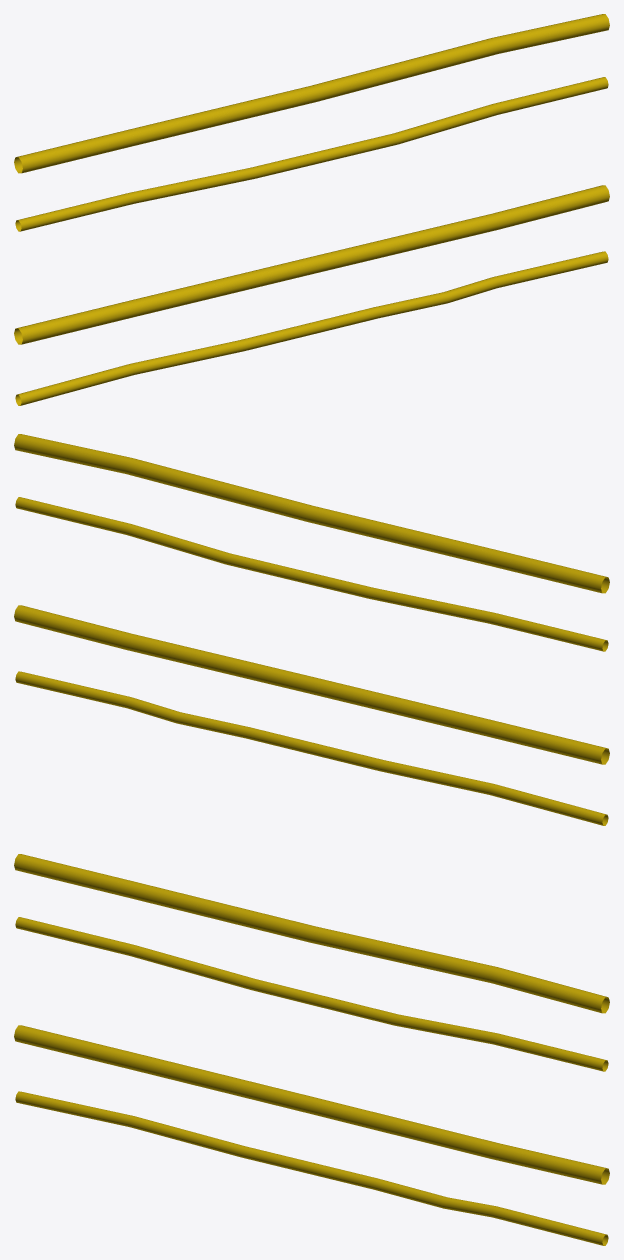
File: ElectricalWires02_03.glb
3 renders of one model, top to bottom at view 1: azimuth 30°, elevation 25°; view 2: azimuth 150°, elevation 25°; view 3: azimuth 330°, elevation 25°, orthographic.
Parts seen in each view (by area): view 1: Circle_031; view 2: Circle_031; view 3: Circle_031.
Boxes of the visible parts, bbox=[...] form: Circle_031: bbox=[14, 14, 609, 405]; Circle_031: bbox=[14, 434, 609, 825]; Circle_031: bbox=[14, 854, 609, 1245].
Bounding box in the file's own units: 4 × 1.65 × 0.1056.
1 material, 1 textured.
